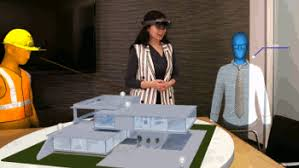hololens: (141, 20, 171, 34)
